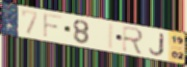7: (20, 8, 39, 36)
8: (73, 19, 91, 44)
F: (42, 12, 64, 40)
I: (107, 23, 115, 51)
J: (148, 32, 166, 57)
R: (122, 25, 146, 57)
